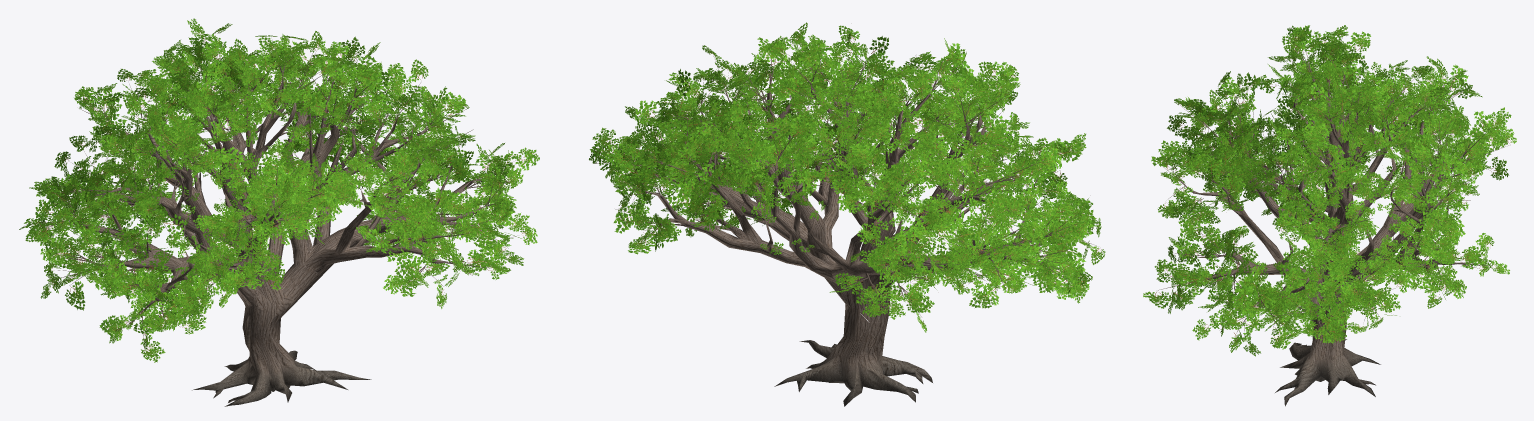
The model's file is Triadica_Summer_LOD1.glb.
3 views of the same model, side by side, from view 1: azimuth 30°, elevation 25°; view 2: azimuth 150°, elevation 25°; view 3: azimuth 270°, elevation 25° (orthographic). The views are drawn at different scales.
Parts seen in each view (by area): view 1: Triadica_Summer_Shoots_LOD1, Triadica_Wood_LOD1; view 2: Triadica_Summer_Shoots_LOD1, Triadica_Wood_LOD1; view 3: Triadica_Summer_Shoots_LOD1, Triadica_Wood_LOD1.
Boxes of the visible parts, box(x1,y1,x2,y2) form: Triadica_Summer_Shoots_LOD1: box(19, 18, 539, 362); Triadica_Wood_LOD1: box(26, 40, 518, 406); Triadica_Summer_Shoots_LOD1: box(589, 22, 1105, 332); Triadica_Wood_LOD1: box(594, 44, 1096, 406); Triadica_Summer_Shoots_LOD1: box(1143, 25, 1516, 356); Triadica_Wood_LOD1: box(1158, 36, 1508, 406).
Size of the model in its own units: 17.09 by 11.72 by 12.37.
2 materials, 2 textured.
